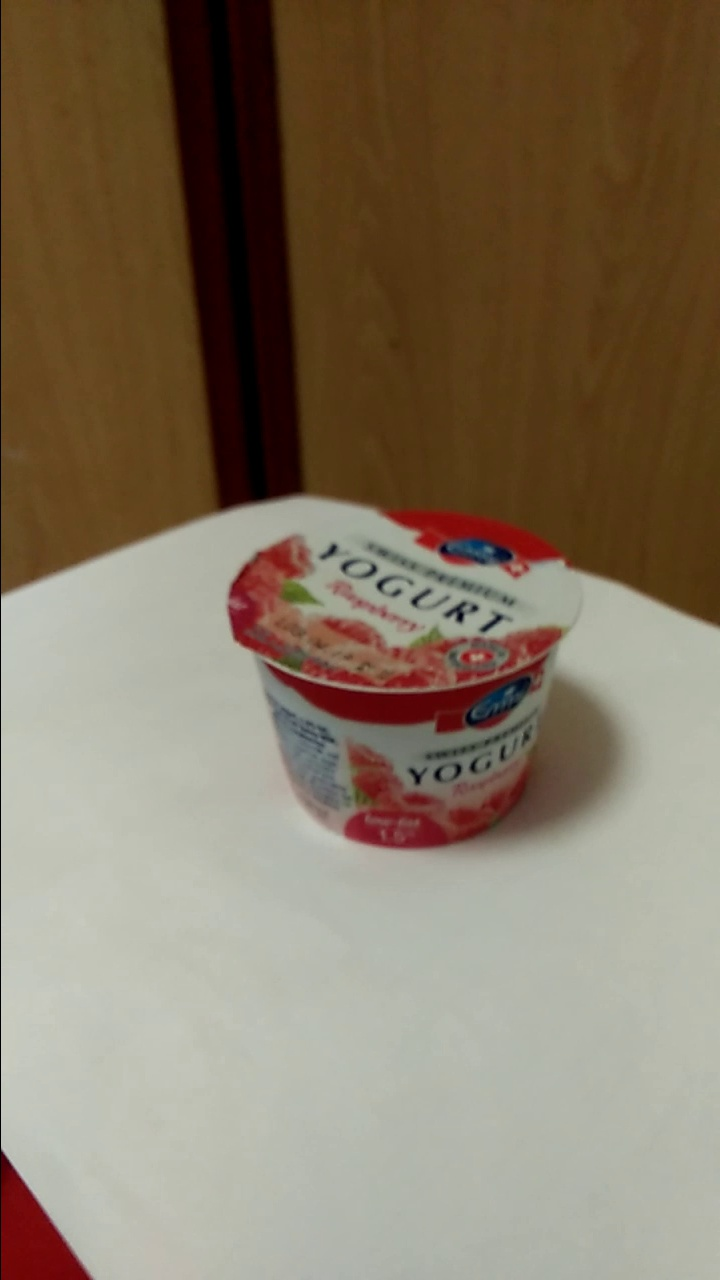yogurt: (225, 521, 564, 855)
